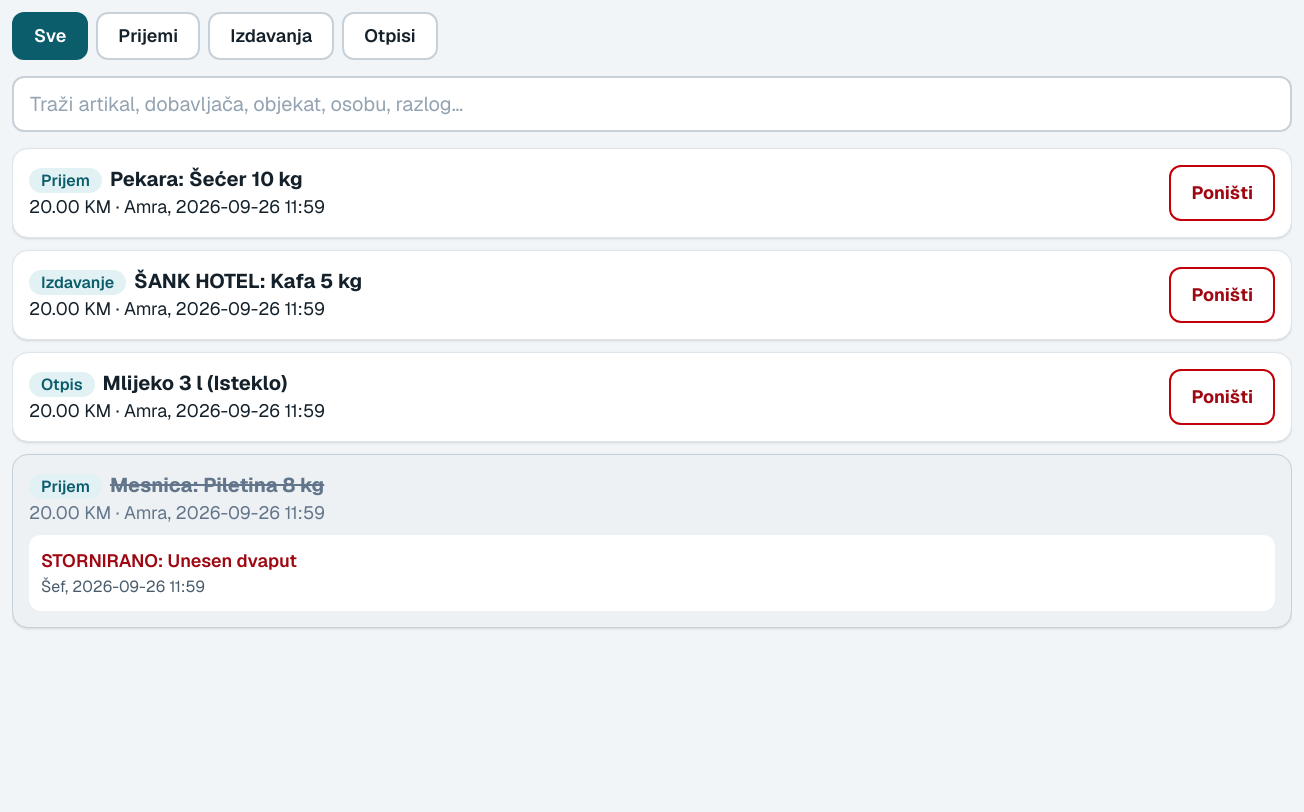
storno: pretraga › nema rezultata: poruka
Step 1. Type "banana" into the field named "Traži radnju" → (652, 104), box [12,76,1292,132]
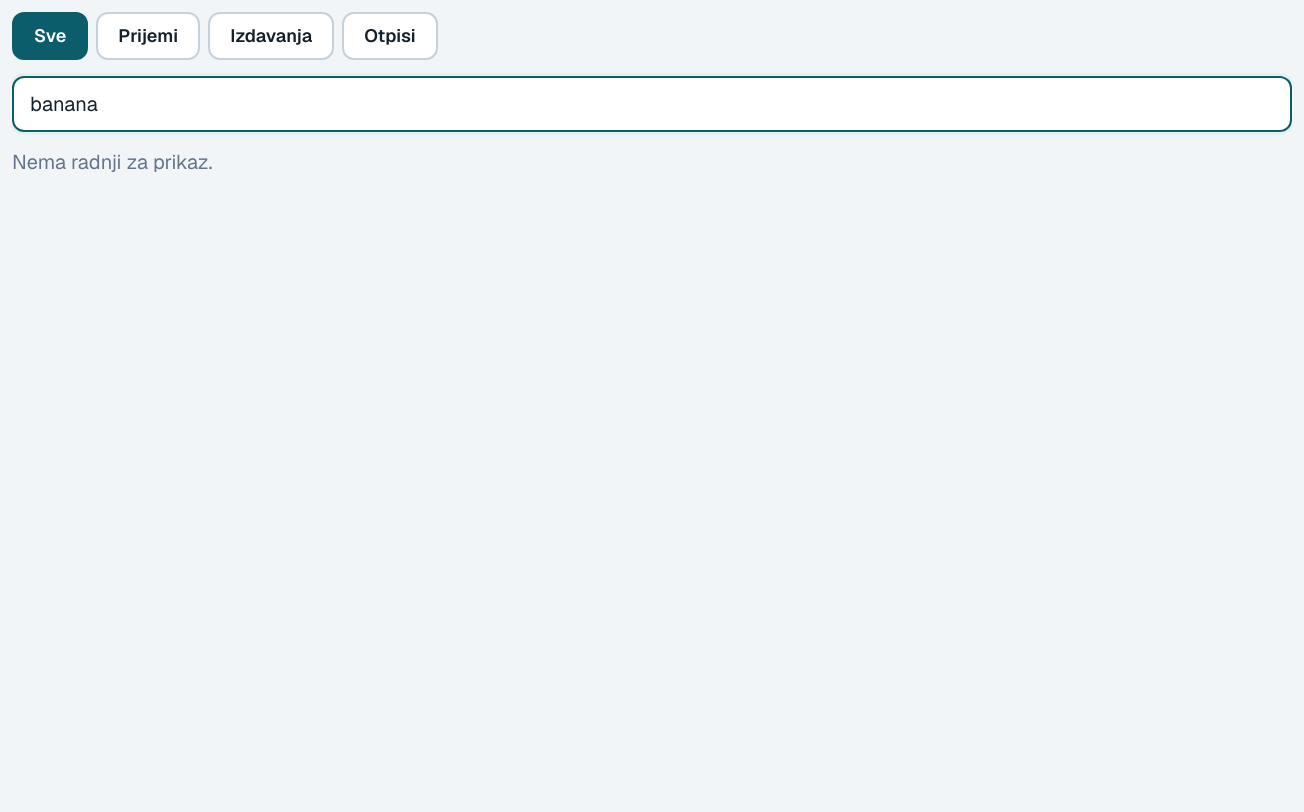
Check: the text "Nema radnji za prikaz." is shown, box [12,149,213,175]
